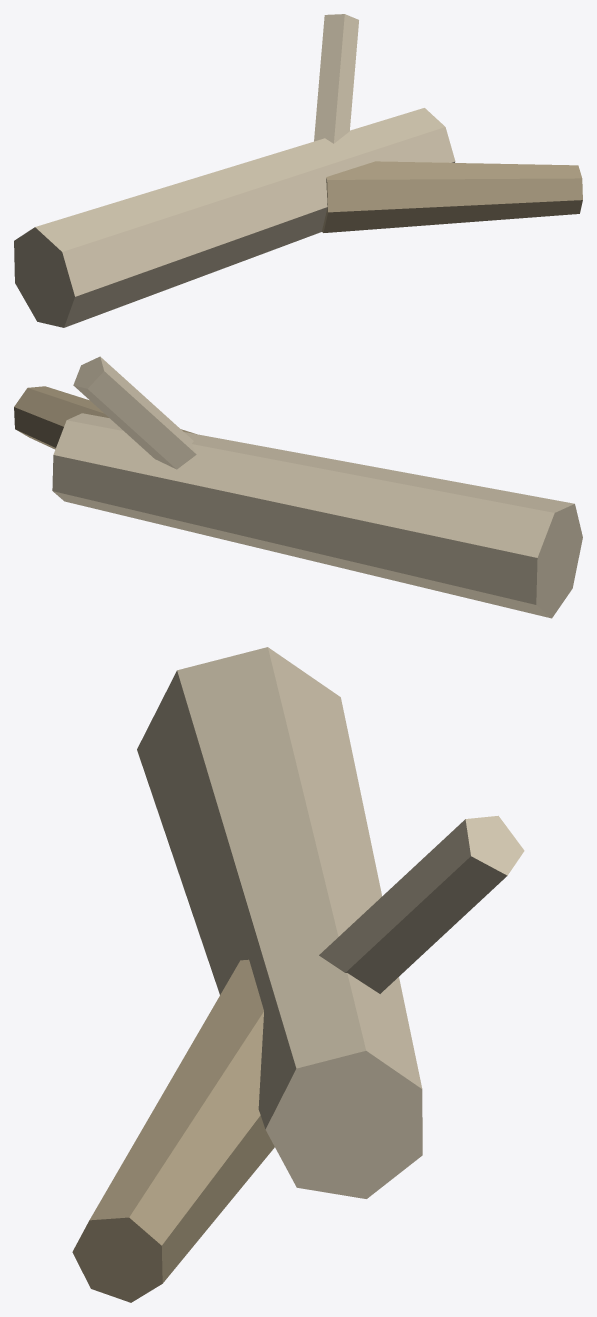
Rendered from xy_beach_driftwood.glb.
3 renders of one model, top to bottom at view 1: azimuth 30°, elevation 25°; view 2: azimuth 150°, elevation 25°; view 3: azimuth 270°, elevation 25°, orthographic. The views are drawn at different scales.
Visible parts, largest first — view 1: Driftwood; view 2: Driftwood; view 3: Driftwood.
Boxes of the visible parts, x1=… form: Driftwood: x1=14, y1=14, x2=582, y2=327; Driftwood: x1=14, y1=356, x2=582, y2=618; Driftwood: x1=72, y1=647, x2=524, y2=1302.
Size of the model in its own units: 2.87 by 0.981 by 1.09.
